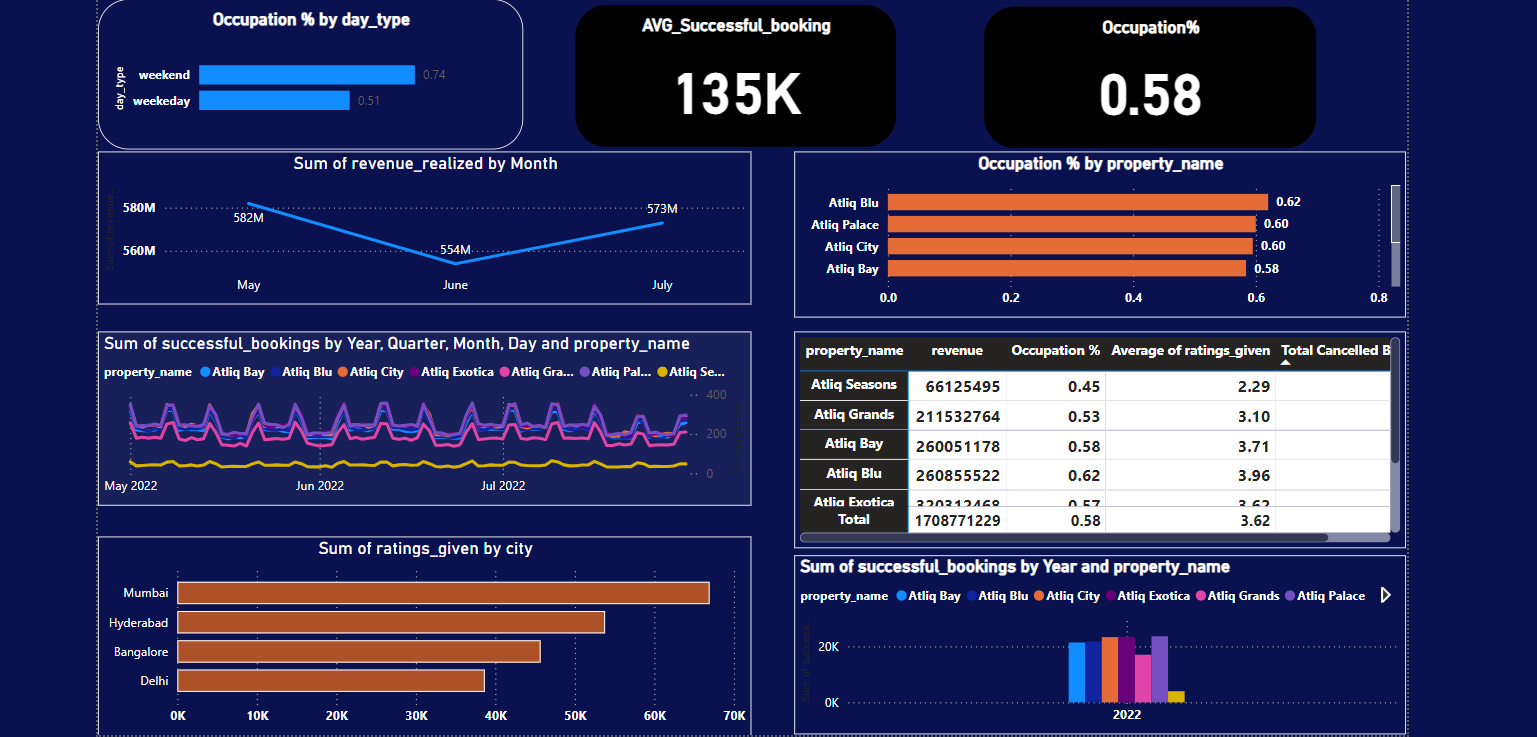

The page's visual inventory and layout, read from the dashboard file:
{"tool":"powerbi","page":{"name":"Property_Info","canvas":[1280,720],"ordinal":2},"visuals":[{"type":"card","title":"AVG_Successful_booking","fields":{"Values":["Sum(fact_aggregated_bookings.successful_bookings)"]},"box":[467.5,5.7,313.6,138.3],"z":0},{"type":"clusteredColumnChart","fields":{"Category":["dim_date.date.Variation.Date Hierarchy.Year"],"Series":["dim_hotels.property_name"],"Y":["Sum(fact_aggregated_bookings.successful_bookings)"]},"box":[681.3,544.5,598.7,175.3],"z":1000},{"type":"lineChart","fields":{"Series":["dim_hotels.property_name"],"Y2":["Sum(fact_aggregated_bookings.successful_bookings)"],"Category":["dim_date.date.Variation.Date Hierarchy.Year","dim_date.date.Variation.Date Hierarchy.Quarter","dim_date.date.Variation.Date Hierarchy.Month","dim_date.date.Variation.Date Hierarchy.Day"]},"box":[0,325.2,639.5,170.2],"z":2000},{"type":"lineChart","fields":{"Y":["Sum(fact_bookings.revenue_realized)"],"Category":["dim_date.mmm yy.Variation.Date Hierarchy.Month"]},"box":[0,149.6,639.5,149.6],"z":3000},{"type":"barChart","fields":{"Category":["dim_hotels.city"],"Y":["Sum(fact_bookings.ratings_given)"]},"box":[0,525.6,639.5,194.9],"z":4000},{"type":"barChart","fields":{"Category":["dim_date.day_type"],"Y":["fact_bookings.Occupation %"]},"box":[0,0,416.2,146.8],"z":5000},{"type":"card","title":"Occupation%","fields":{"Values":["fact_bookings.Occupation %"]},"box":[866.6,7.1,325,138.3],"z":6000},{"type":"clusteredBarChart","fields":{"Category":["dim_hotels.property_name"],"Y":["fact_bookings.Occupation %"]},"box":[681.3,149.7,598.7,162.5],"z":7000},{"type":"pivotTable","fields":{"Rows":["dim_hotels.property_name"],"Values":["fact_bookings.revenue","fact_bookings.Occupation %","Avg(fact_bookings.ratings_given)","fact_bookings.Total Cancelled Bookings"]},"box":[681.3,325,598.7,212.4],"z":8000}]}

Visuals, with their boxes on the page's 1280x720 design canvas (x1, y1, x2, y2). These are canvas units, not pixel positions in the 1537x737 screenshot, which may show the page scaled, cropped or inside an application window:
"AVG_Successful_booking" card: {"x1": 468, "y1": 6, "x2": 781, "y2": 144}
clusteredColumnChart - dim_date.date.Variation.Date Hierarchy.Year x dim_hotels.property_name: {"x1": 681, "y1": 544, "x2": 1280, "y2": 720}
lineChart - dim_hotels.property_name x Sum(fact_aggregated_bookings.successful_bookings): {"x1": 0, "y1": 325, "x2": 640, "y2": 495}
lineChart - Sum(fact_bookings.revenue_realized) x dim_date.mmm yy.Variation.Date Hierarchy.Month: {"x1": 0, "y1": 150, "x2": 640, "y2": 299}
barChart - dim_hotels.city x Sum(fact_bookings.ratings_given): {"x1": 0, "y1": 526, "x2": 640, "y2": 720}
barChart - dim_date.day_type x fact_bookings.Occupation %: {"x1": 0, "y1": 0, "x2": 416, "y2": 147}
"Occupation%" card: {"x1": 867, "y1": 7, "x2": 1192, "y2": 145}
clusteredBarChart - dim_hotels.property_name x fact_bookings.Occupation %: {"x1": 681, "y1": 150, "x2": 1280, "y2": 312}
pivotTable - dim_hotels.property_name x fact_bookings.revenue: {"x1": 681, "y1": 325, "x2": 1280, "y2": 537}
